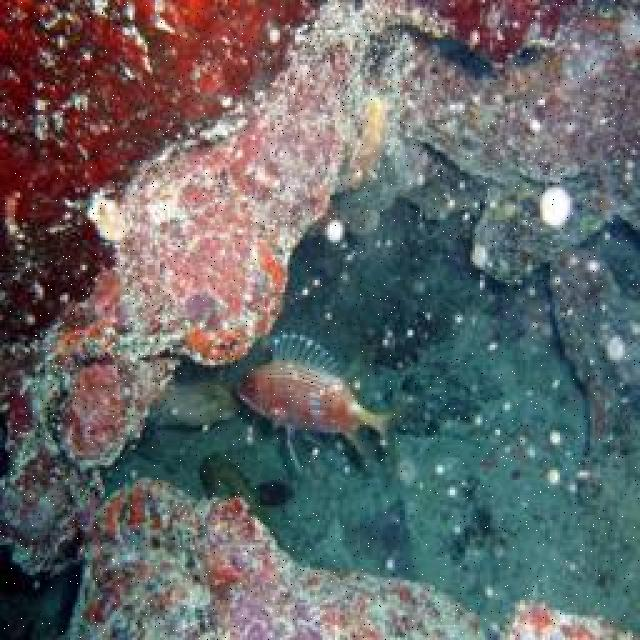fish: (236, 332, 402, 454)
reefs: (0, 0, 330, 468), (425, 0, 580, 64)
